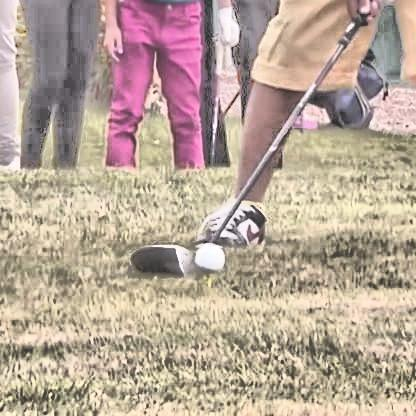golfball: (190, 237, 223, 273)
